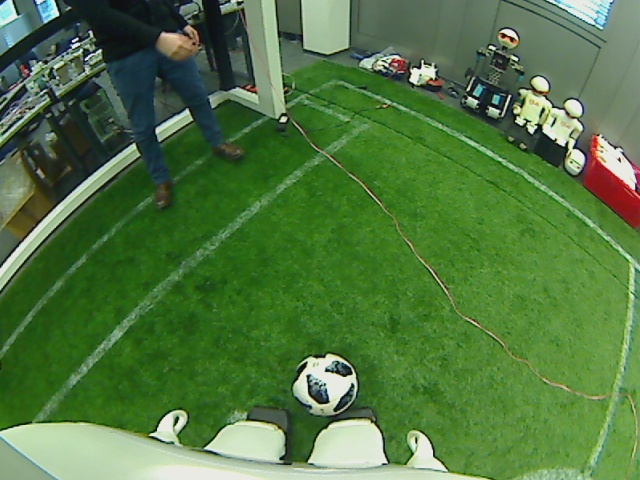ball: (289, 350, 359, 418)
